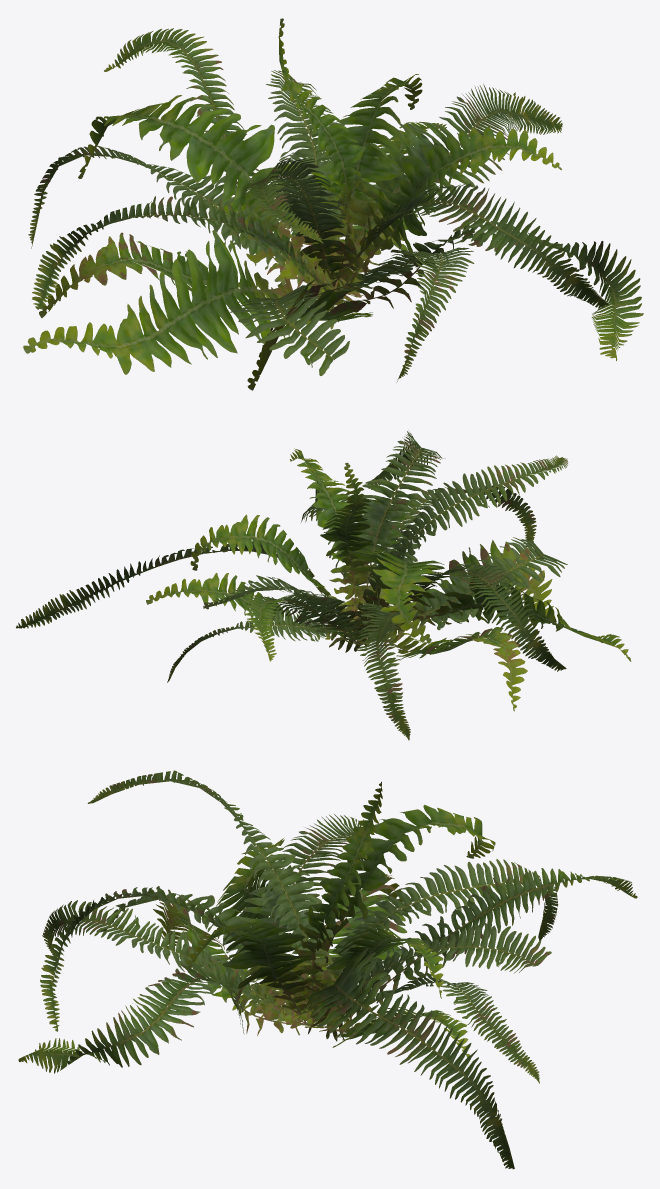
The model's file is fern_02_c.gltf.
3 renders of one model, top to bottom at view 1: azimuth 30°, elevation 25°; view 2: azimuth 150°, elevation 25°; view 3: azimuth 270°, elevation 25°, orthographic. The views are drawn at different scales.
Visible parts, largest first — view 1: fern_02_c__x; view 2: fern_02_c__x; view 3: fern_02_c__x.
Boxes of the visible parts, x1=… form: fern_02_c__x: x1=23, y1=18, x2=643, y2=390; fern_02_c__x: x1=16, y1=431, x2=631, y2=740; fern_02_c__x: x1=18, y1=770, x2=637, y2=1169.
Size of the model in its own units: 0.8743 by 0.349 by 0.7652.
1 material, 1 textured.
